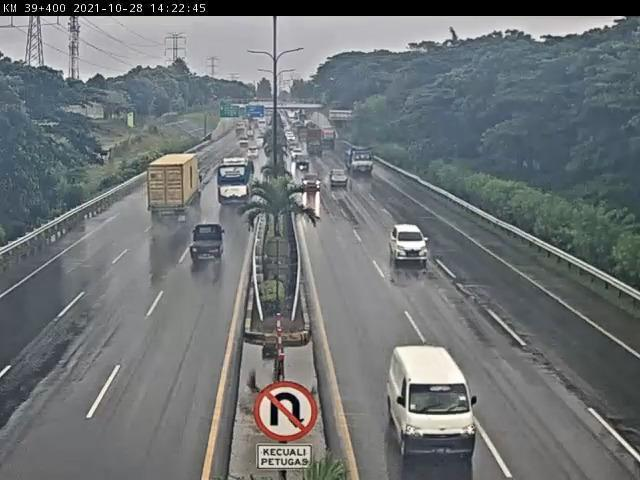bus: (218, 155, 257, 208)
truck: (145, 155, 207, 224), (346, 145, 377, 177)
